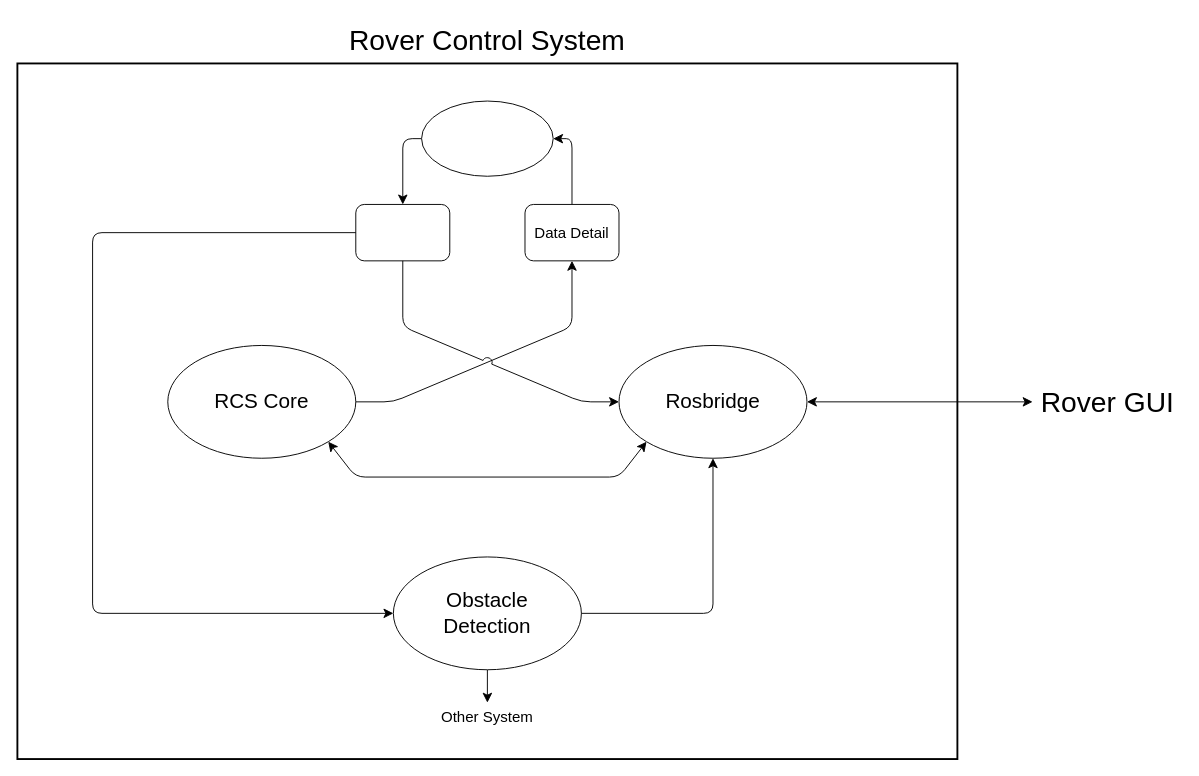
Image size: 1199x776. Some labels were removed from this diagram. Each missing label, with the box of its shape:
LIDAR Data: (355, 204, 450, 261)
RealSense LIDAR: (421, 100, 553, 176)
